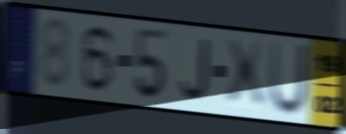5: (133, 24, 169, 102)
6: (81, 23, 117, 94)
8: (38, 16, 72, 93)
J: (178, 37, 211, 103)
U: (266, 38, 313, 120)
X: (223, 37, 268, 112)
